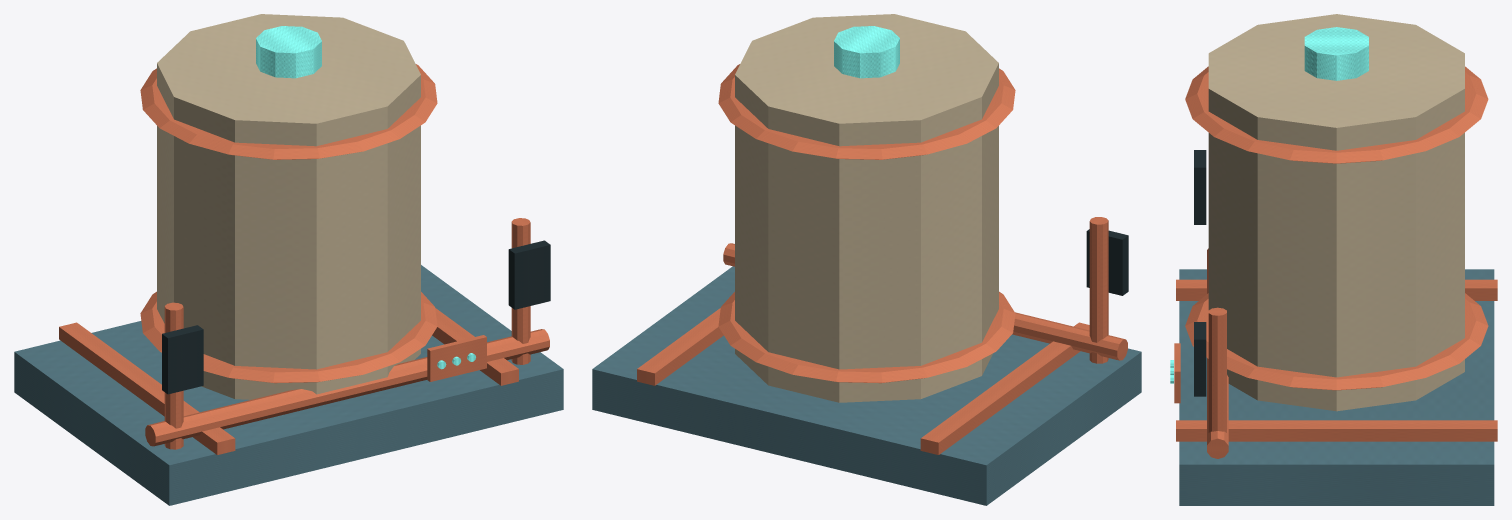
The model's file is atlas100-s046-a04.glb.
3 views of the same model, side by side, from view 1: azimuth 30°, elevation 25°; view 2: azimuth 150°, elevation 25°; view 3: azimuth 270°, elevation 25° (orthographic).
Visible parts, largest first — view 1: atlas100-s046-a04:part-003, atlas100-s046-a04:part-000, atlas100-s046-a04:part-011, atlas100-s046-a04:part-005, atlas100-s046-a04:part-004, atlas100-s046-a04:part-001, atlas100-s046-a04:part-006, atlas100-s046-a04:part-010, atlas100-s046-a04:part-008, atlas100-s046-a04:part-012, atlas100-s046-a04:part-002, atlas100-s046-a04:part-007 (+1 smaller); view 2: atlas100-s046-a04:part-003, atlas100-s046-a04:part-000, atlas100-s046-a04:part-005, atlas100-s046-a04:part-004, atlas100-s046-a04:part-001, atlas100-s046-a04:part-006, atlas100-s046-a04:part-011, atlas100-s046-a04:part-007, atlas100-s046-a04:part-002, atlas100-s046-a04:part-008; view 3: atlas100-s046-a04:part-003, atlas100-s046-a04:part-000, atlas100-s046-a04:part-002, atlas100-s046-a04:part-005, atlas100-s046-a04:part-004, atlas100-s046-a04:part-006, atlas100-s046-a04:part-009, atlas100-s046-a04:part-001, atlas100-s046-a04:part-008, atlas100-s046-a04:part-010, atlas100-s046-a04:part-011, atlas100-s046-a04:part-012.
Part boxes in pixels (bbox=[...]): atlas100-s046-a04:part-003: bbox=[157, 14, 420, 399]; atlas100-s046-a04:part-000: bbox=[14, 265, 563, 505]; atlas100-s046-a04:part-011: bbox=[145, 329, 549, 446]; atlas100-s046-a04:part-005: bbox=[140, 64, 437, 159]; atlas100-s046-a04:part-004: bbox=[140, 291, 437, 383]; atlas100-s046-a04:part-001: bbox=[59, 322, 235, 454]; atlas100-s046-a04:part-006: bbox=[256, 26, 321, 78]; atlas100-s046-a04:part-010: bbox=[508, 240, 550, 309]; atlas100-s046-a04:part-008: bbox=[162, 325, 203, 394]; atlas100-s046-a04:part-012: bbox=[427, 335, 486, 381]; atlas100-s046-a04:part-002: bbox=[432, 308, 518, 385]; atlas100-s046-a04:part-007: bbox=[164, 302, 183, 449]; atlas100-s046-a04:part-003: bbox=[735, 14, 998, 402]; atlas100-s046-a04:part-000: bbox=[592, 266, 1141, 505]; atlas100-s046-a04:part-005: bbox=[718, 64, 1015, 159]; atlas100-s046-a04:part-004: bbox=[718, 291, 1015, 383]; atlas100-s046-a04:part-001: bbox=[920, 322, 1089, 454]; atlas100-s046-a04:part-006: bbox=[834, 26, 899, 78]; atlas100-s046-a04:part-011: bbox=[723, 243, 1127, 360]; atlas100-s046-a04:part-007: bbox=[1089, 217, 1108, 363]; atlas100-s046-a04:part-002: bbox=[637, 308, 723, 385]; atlas100-s046-a04:part-008: bbox=[1086, 229, 1128, 295]; atlas100-s046-a04:part-003: bbox=[1208, 14, 1464, 411]; atlas100-s046-a04:part-000: bbox=[1179, 269, 1494, 505]; atlas100-s046-a04:part-002: bbox=[1176, 420, 1497, 441]; atlas100-s046-a04:part-005: bbox=[1185, 66, 1488, 163]; atlas100-s046-a04:part-004: bbox=[1185, 293, 1488, 390]; atlas100-s046-a04:part-006: bbox=[1304, 27, 1368, 80]; atlas100-s046-a04:part-009: bbox=[1208, 307, 1226, 432]; atlas100-s046-a04:part-001: bbox=[1176, 279, 1497, 300]; atlas100-s046-a04:part-008: bbox=[1194, 150, 1206, 224]; atlas100-s046-a04:part-010: bbox=[1194, 322, 1206, 396]; atlas100-s046-a04:part-011: bbox=[1207, 248, 1228, 458]; atlas100-s046-a04:part-012: bbox=[1174, 343, 1180, 403].
Bounding box in the file's own units: 2.64 × 2.31 × 1.87.
5 materials, 5 textured.
